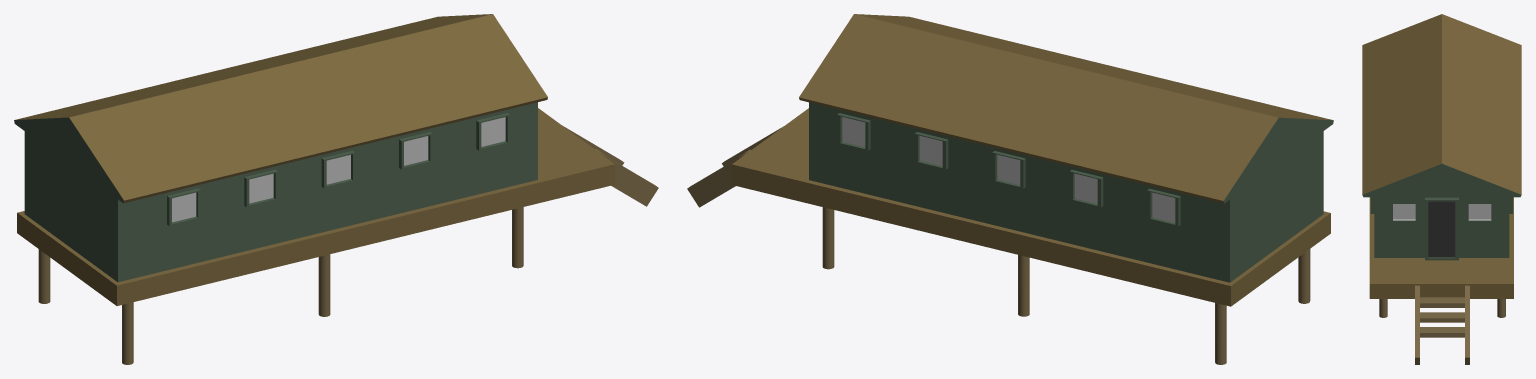
The model's file is WW2_Barracks.fbx.
The picture shows the model from 3 angles, left to right: view 1: azimuth 30°, elevation 25°; view 2: azimuth 150°, elevation 25°; view 3: azimuth 270°, elevation 25°; orthographic projection. The views are drawn at different scales.
Parts seen in each view (by area): view 1: pCube25; view 2: pCube25; view 3: pCube25.
Part boxes in pixels (left/top/right/bottom): pCube25: left=14, top=14, right=658, bottom=364; pCube25: left=687, top=14, right=1333, bottom=364; pCube25: left=1362, top=14, right=1521, bottom=364.
Bounding box in the file's own units: 5.5 × 2 × 1.83.
